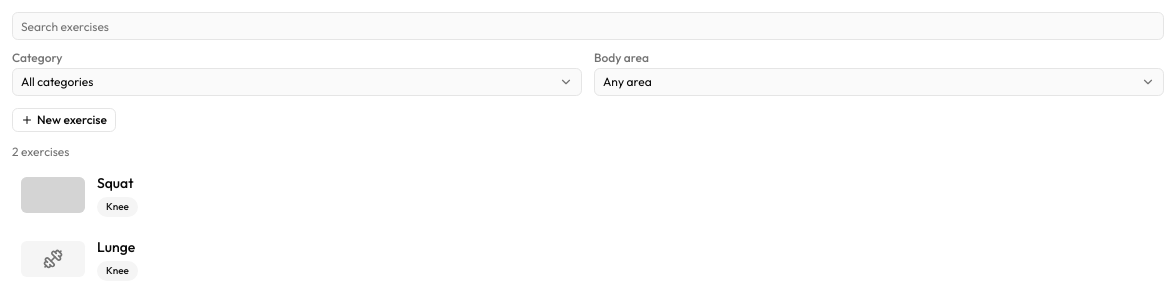
Test case: ExercisePicker › returns to the library without a request when the filters are cleared
In the search field labelled "Search exercises": {"x": 588, "y": 26} [12, 12, 1164, 40], type "br"
Wait 250 ms
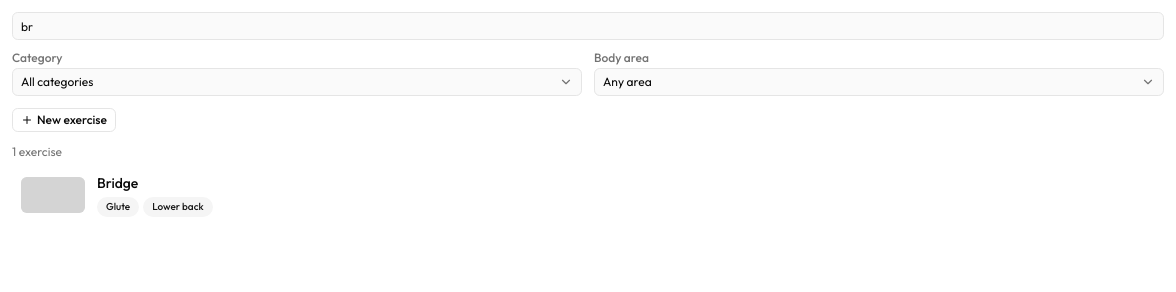
Now the button "Bridge Glute Lower back" is shown, box [12, 164, 1164, 226]
Clear the search field named "Search exercises": {"x": 588, "y": 26} [12, 12, 1164, 40]
Wait 250 ms
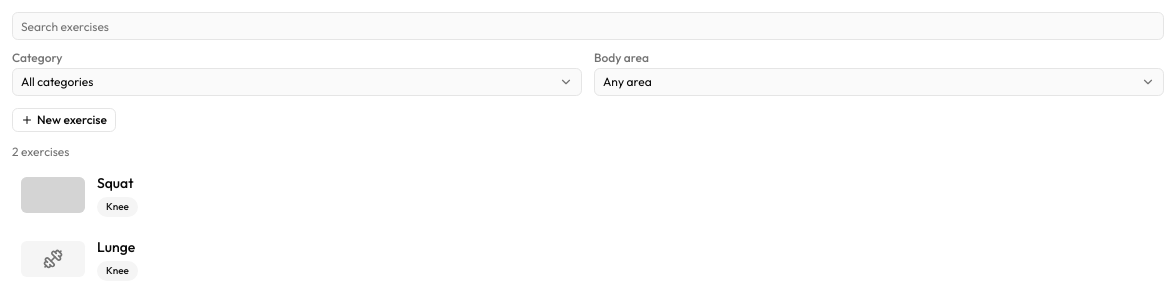
Now the button "Squat Knee" is shown, box [12, 164, 1164, 226]
